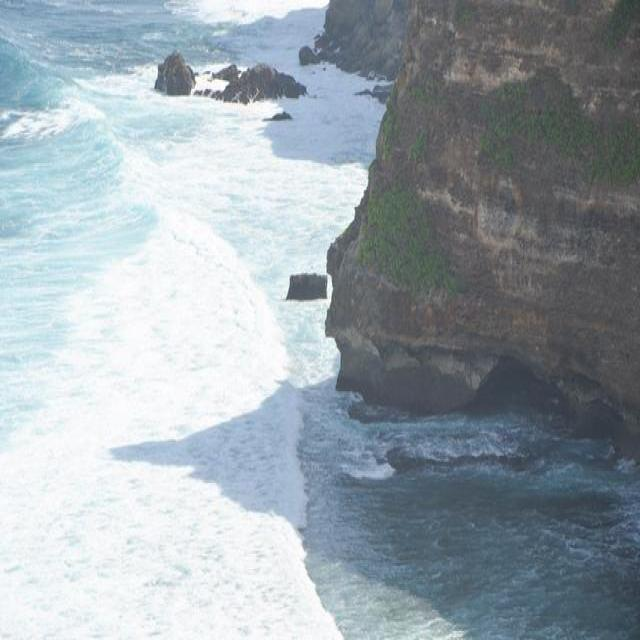reef: (144, 39, 322, 128), (286, 254, 386, 352)
